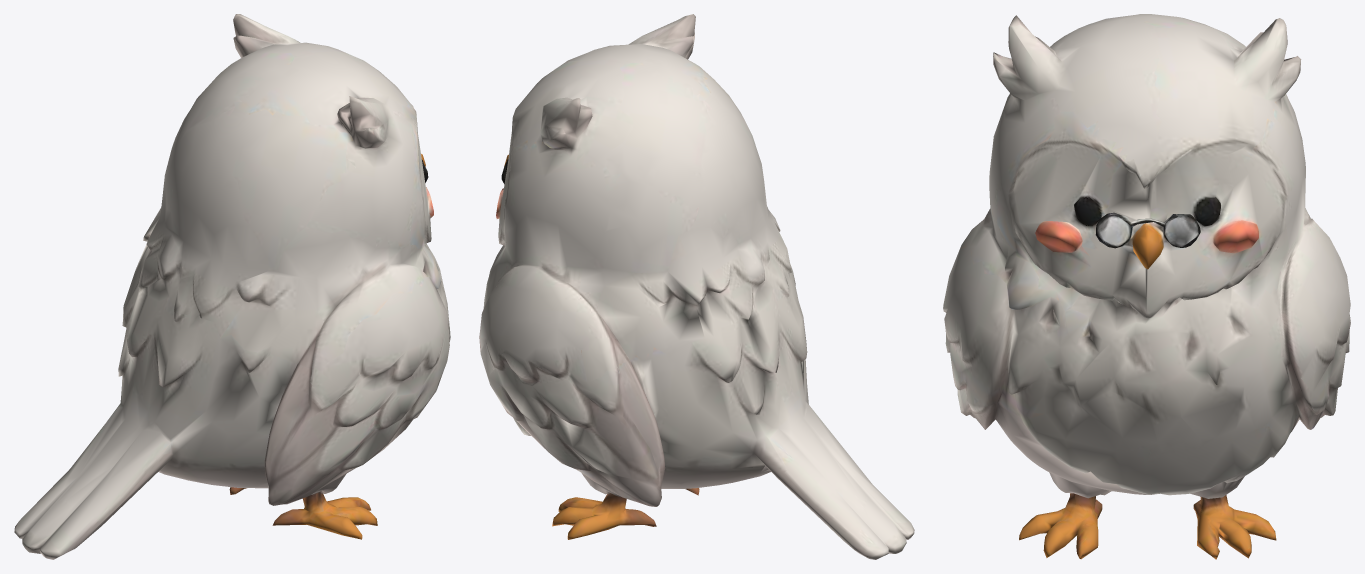
The model's file is common_owl.lite.glb.
3 renders of one model, left to right at view 1: azimuth 30°, elevation 25°; view 2: azimuth 150°, elevation 25°; view 3: azimuth 270°, elevation 25°, orthographic. The views are drawn at different scales.
Visible parts, largest first — view 1: tripo_node_3ae6f719-1200-48f7-ad7b-c2e020ad9564; view 2: tripo_node_3ae6f719-1200-48f7-ad7b-c2e020ad9564; view 3: tripo_node_3ae6f719-1200-48f7-ad7b-c2e020ad9564.
Part boxes in pixels (x1,y1,x2,y2): tripo_node_3ae6f719-1200-48f7-ad7b-c2e020ad9564: (14, 14, 450, 559); tripo_node_3ae6f719-1200-48f7-ad7b-c2e020ad9564: (479, 14, 914, 559); tripo_node_3ae6f719-1200-48f7-ad7b-c2e020ad9564: (943, 14, 1350, 559).
Size of the model in its own units: 0.9319 by 0.9997 by 0.7105.
1 material, 1 textured.
